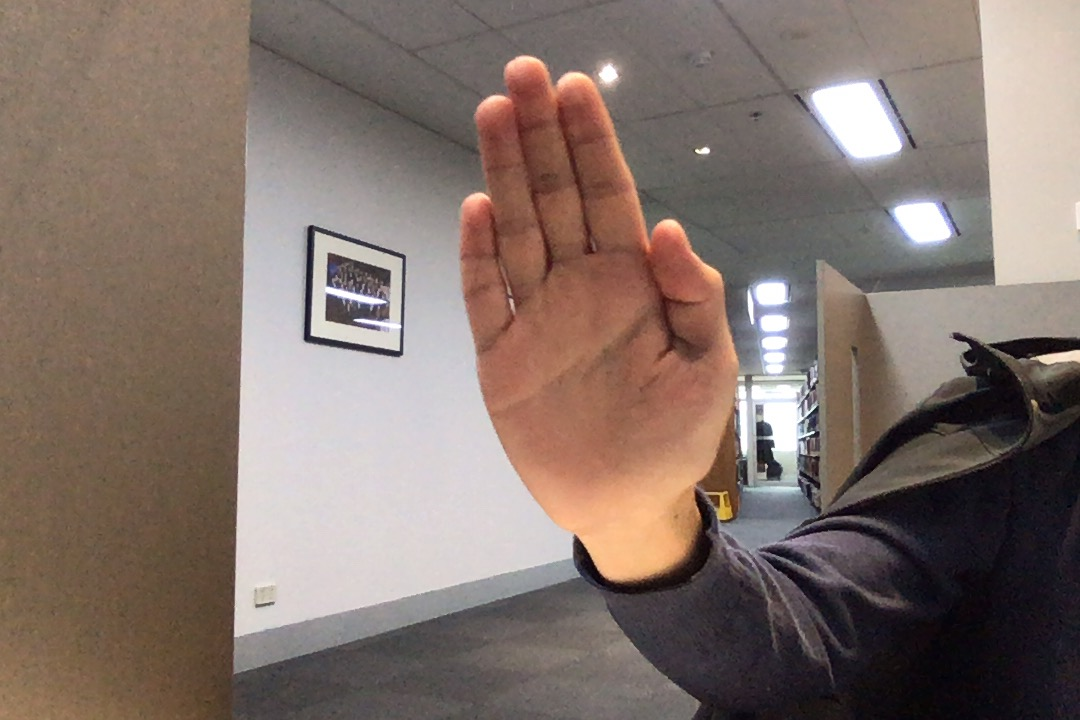palmhand: (444, 48, 753, 544)
